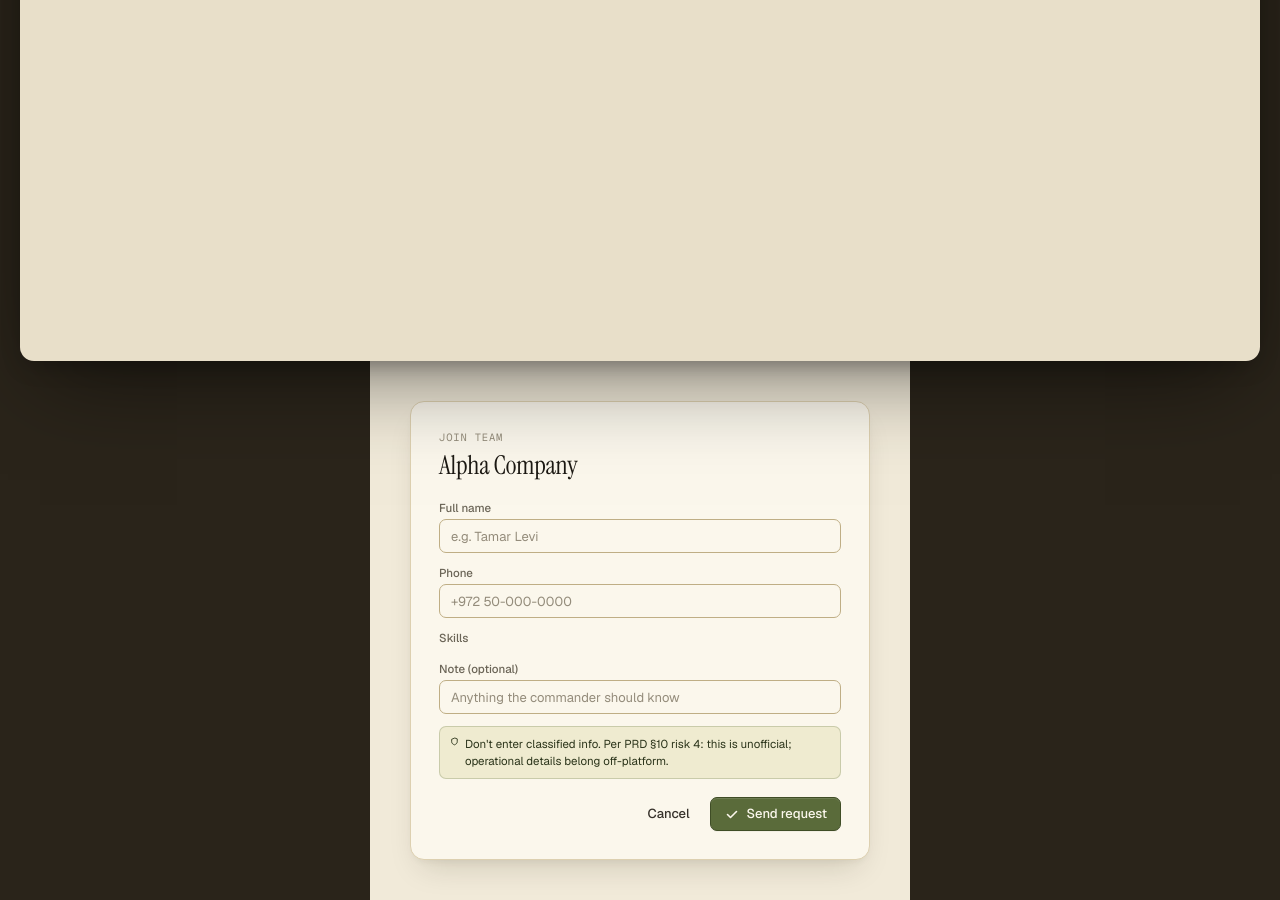
Test case: JoinScreen › on mutation rejection, does not transition to the success state
(page scrolled)
Type "Tamar Levi" into the field with placeholder "e.g. Tamar Levi". click: x=640, y=536
box: [439,519,841,553]
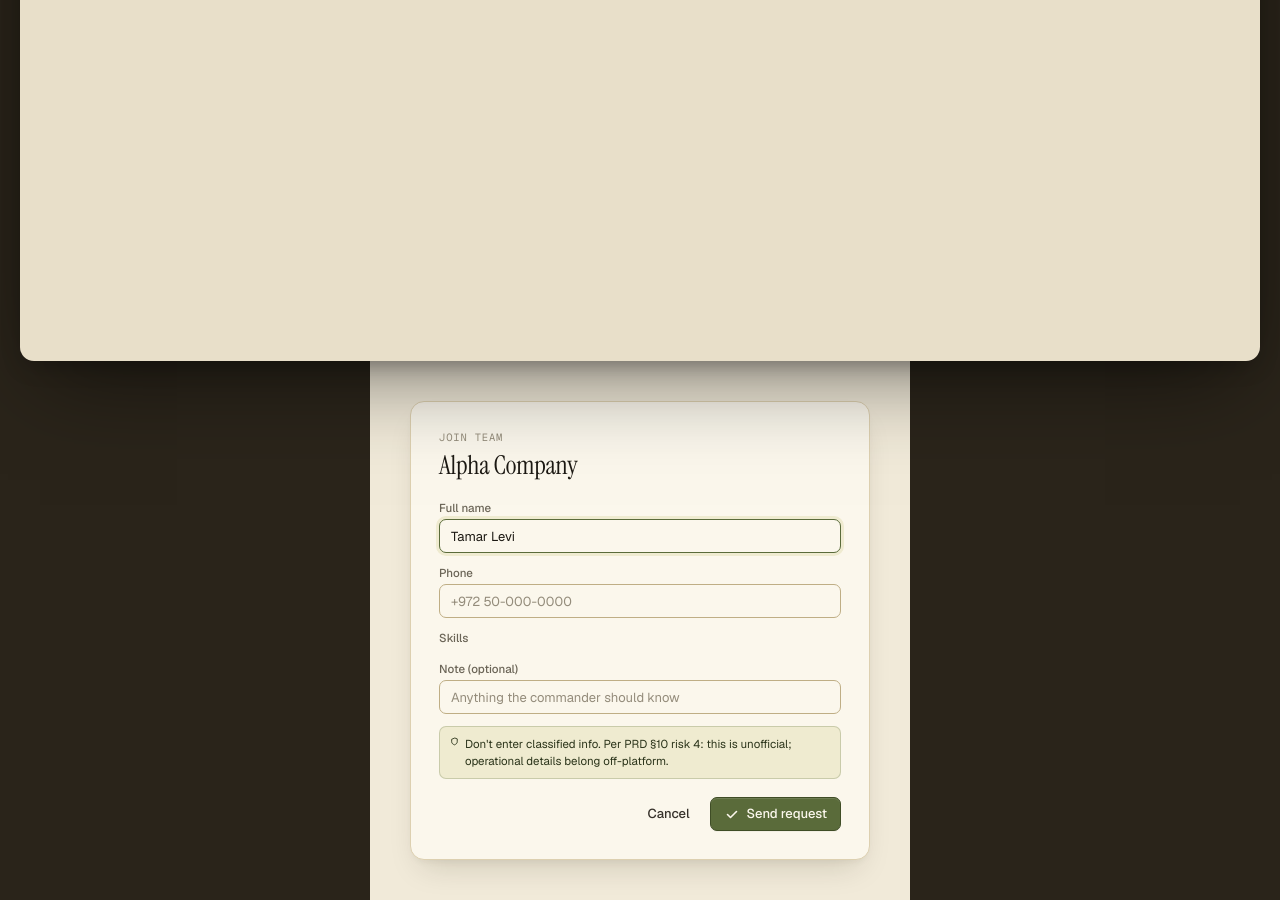
Type "+972501234567" into the field with placeholder "+972 50-000-0000". click: x=640, y=601
box: [439,584,841,618]
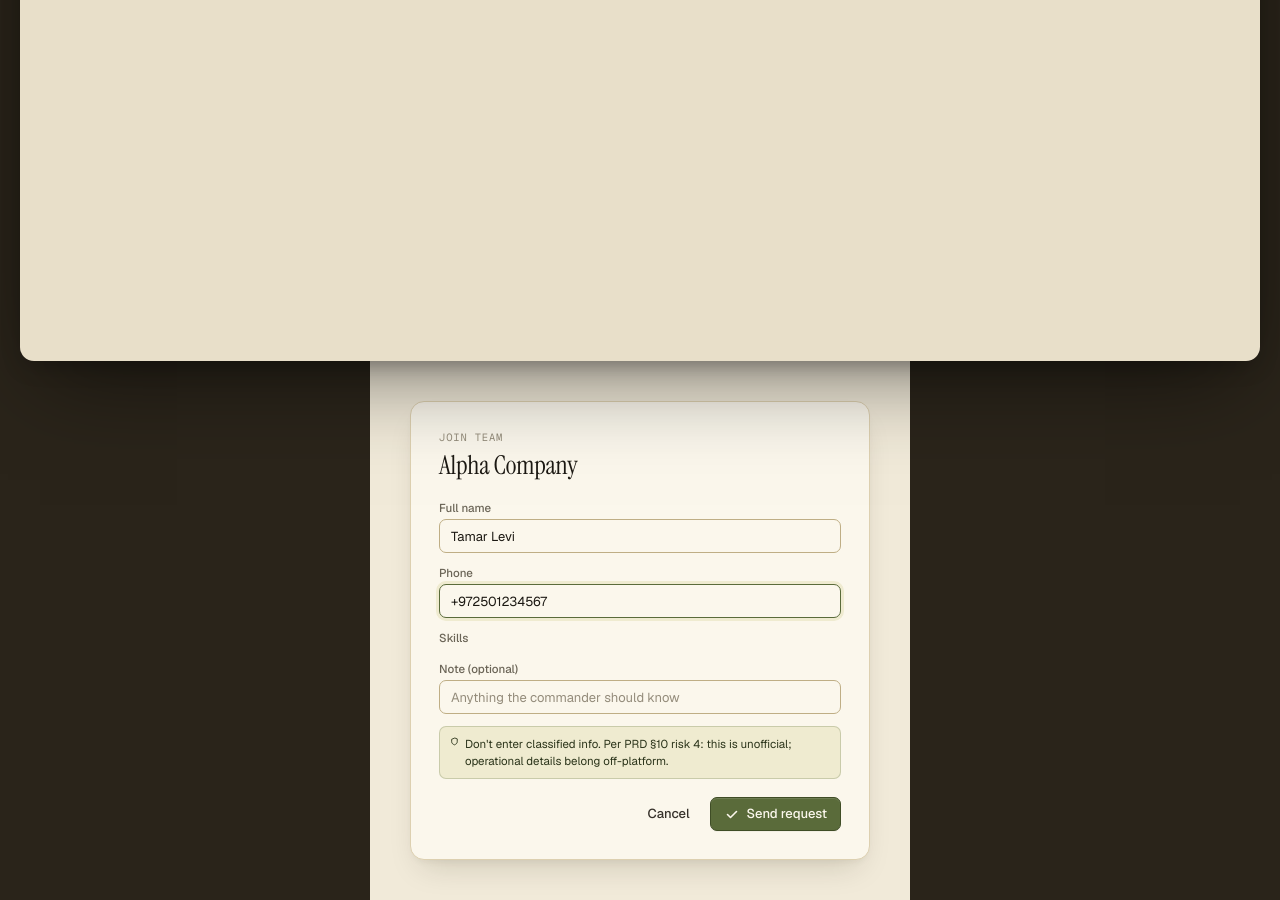
Click the button "Send request". click: x=775, y=814
box: [710,796,841,830]
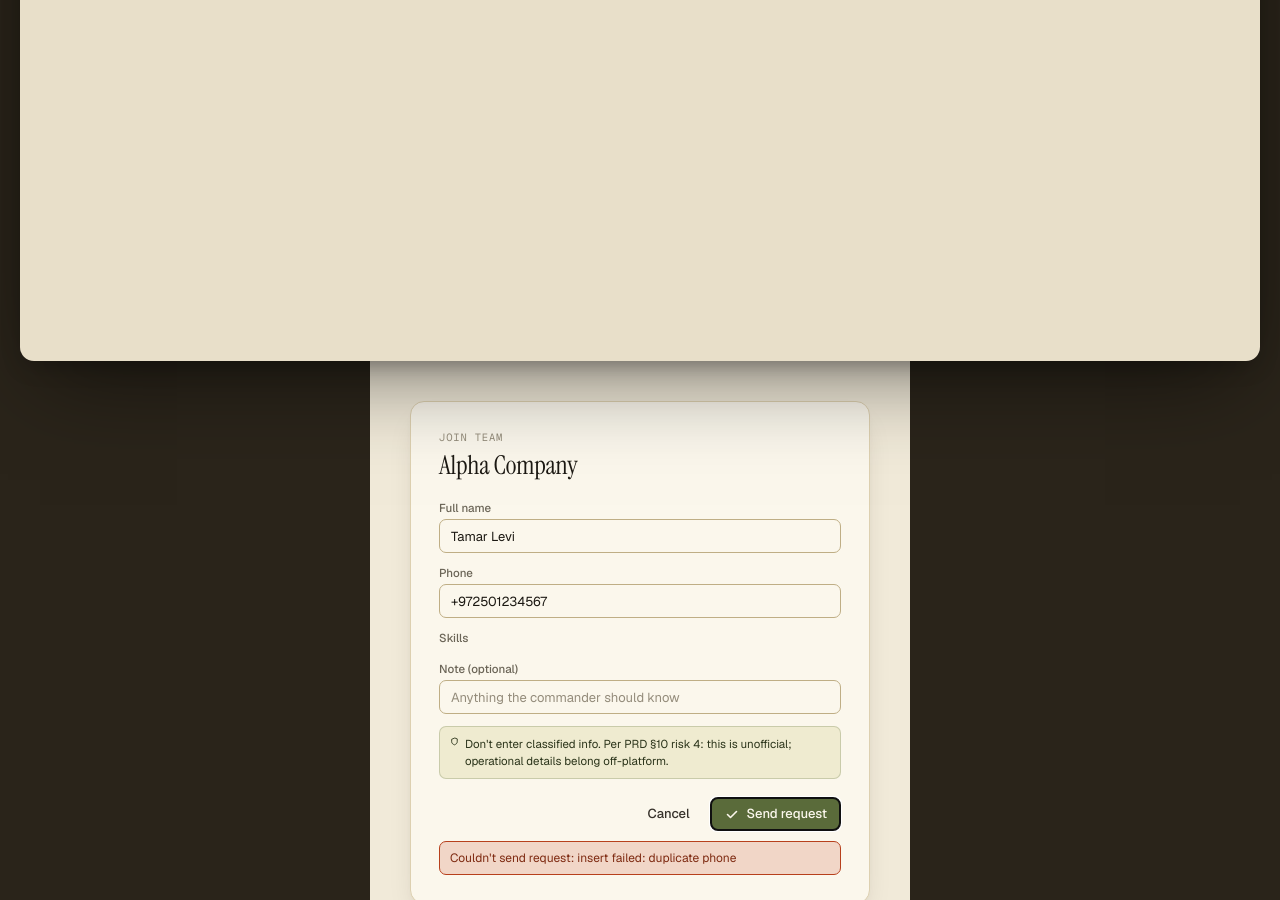
Expected: the message shows "Couldn't send request", [450,850,736,866]
Expected: the message shows "duplicate phone", [450,850,736,866]
